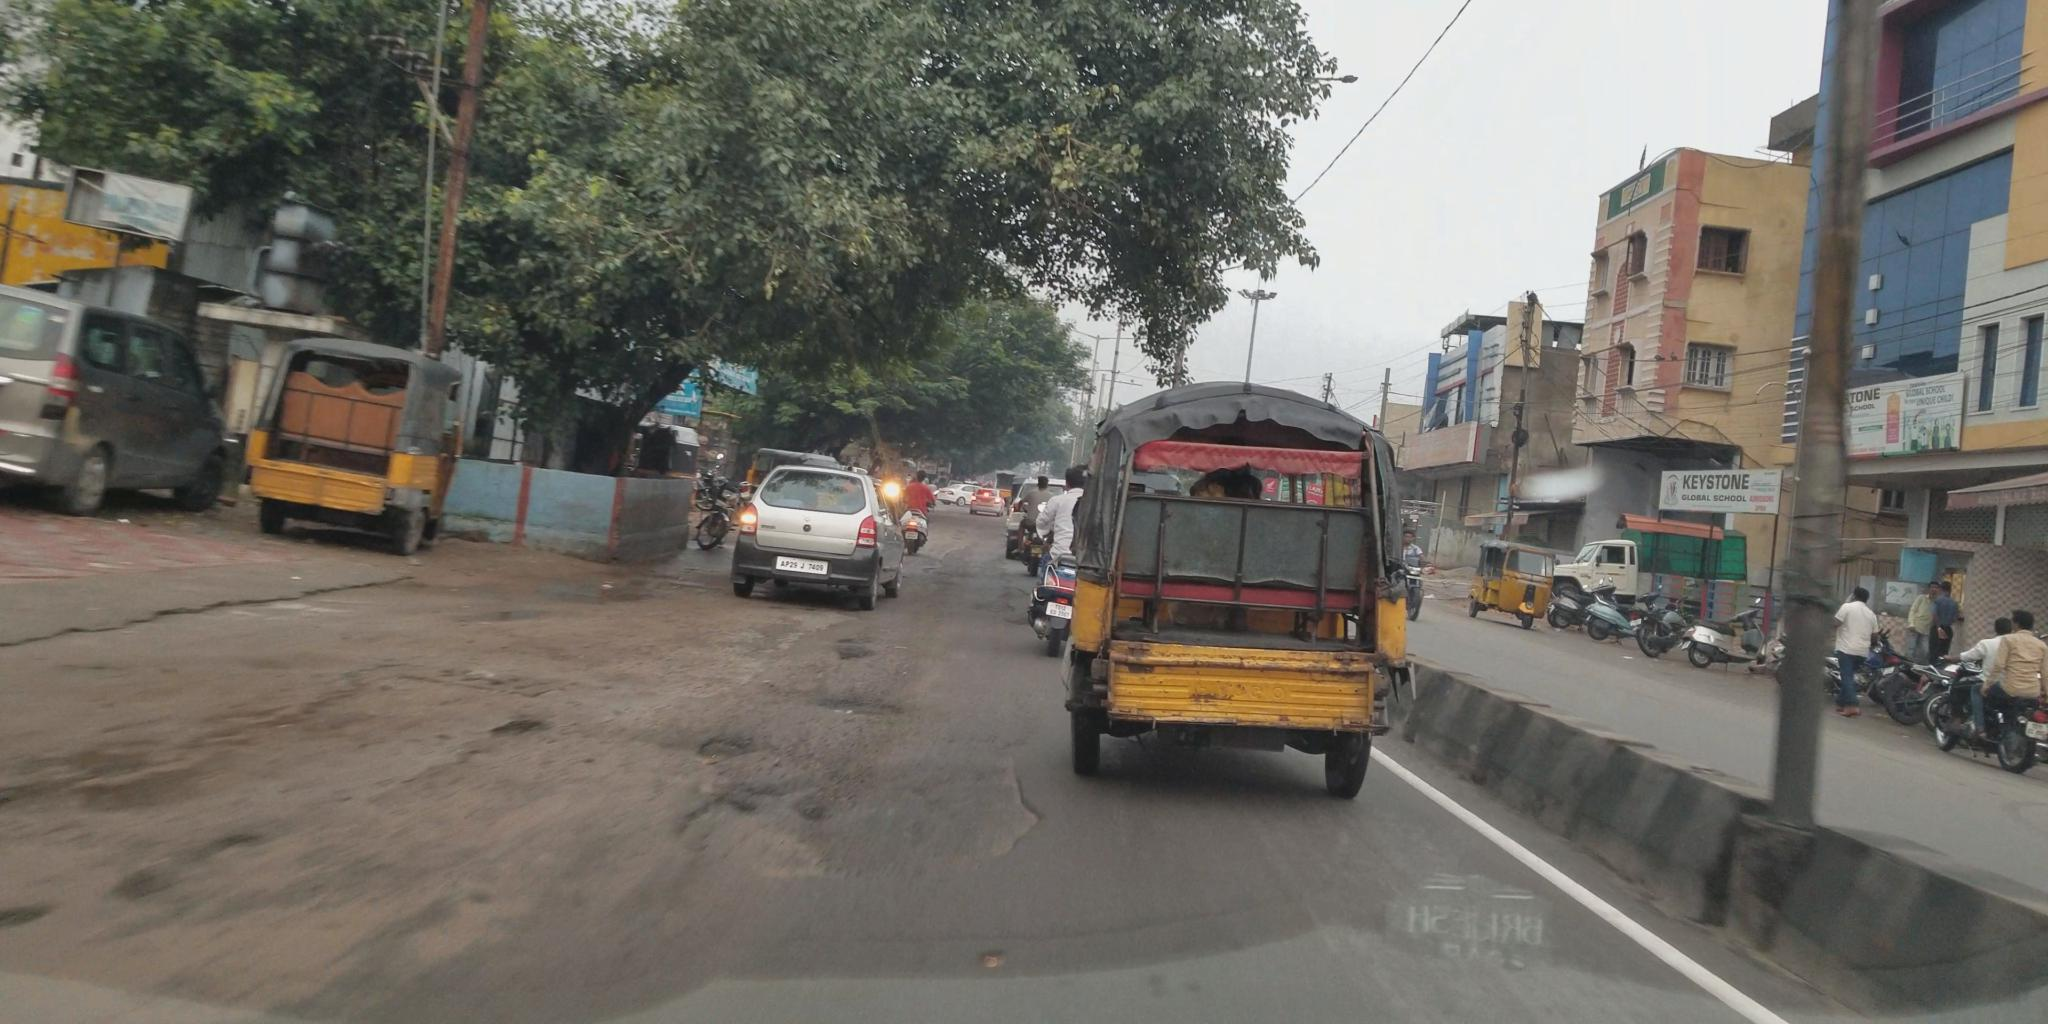off: (30, 0, 2048, 1024)
